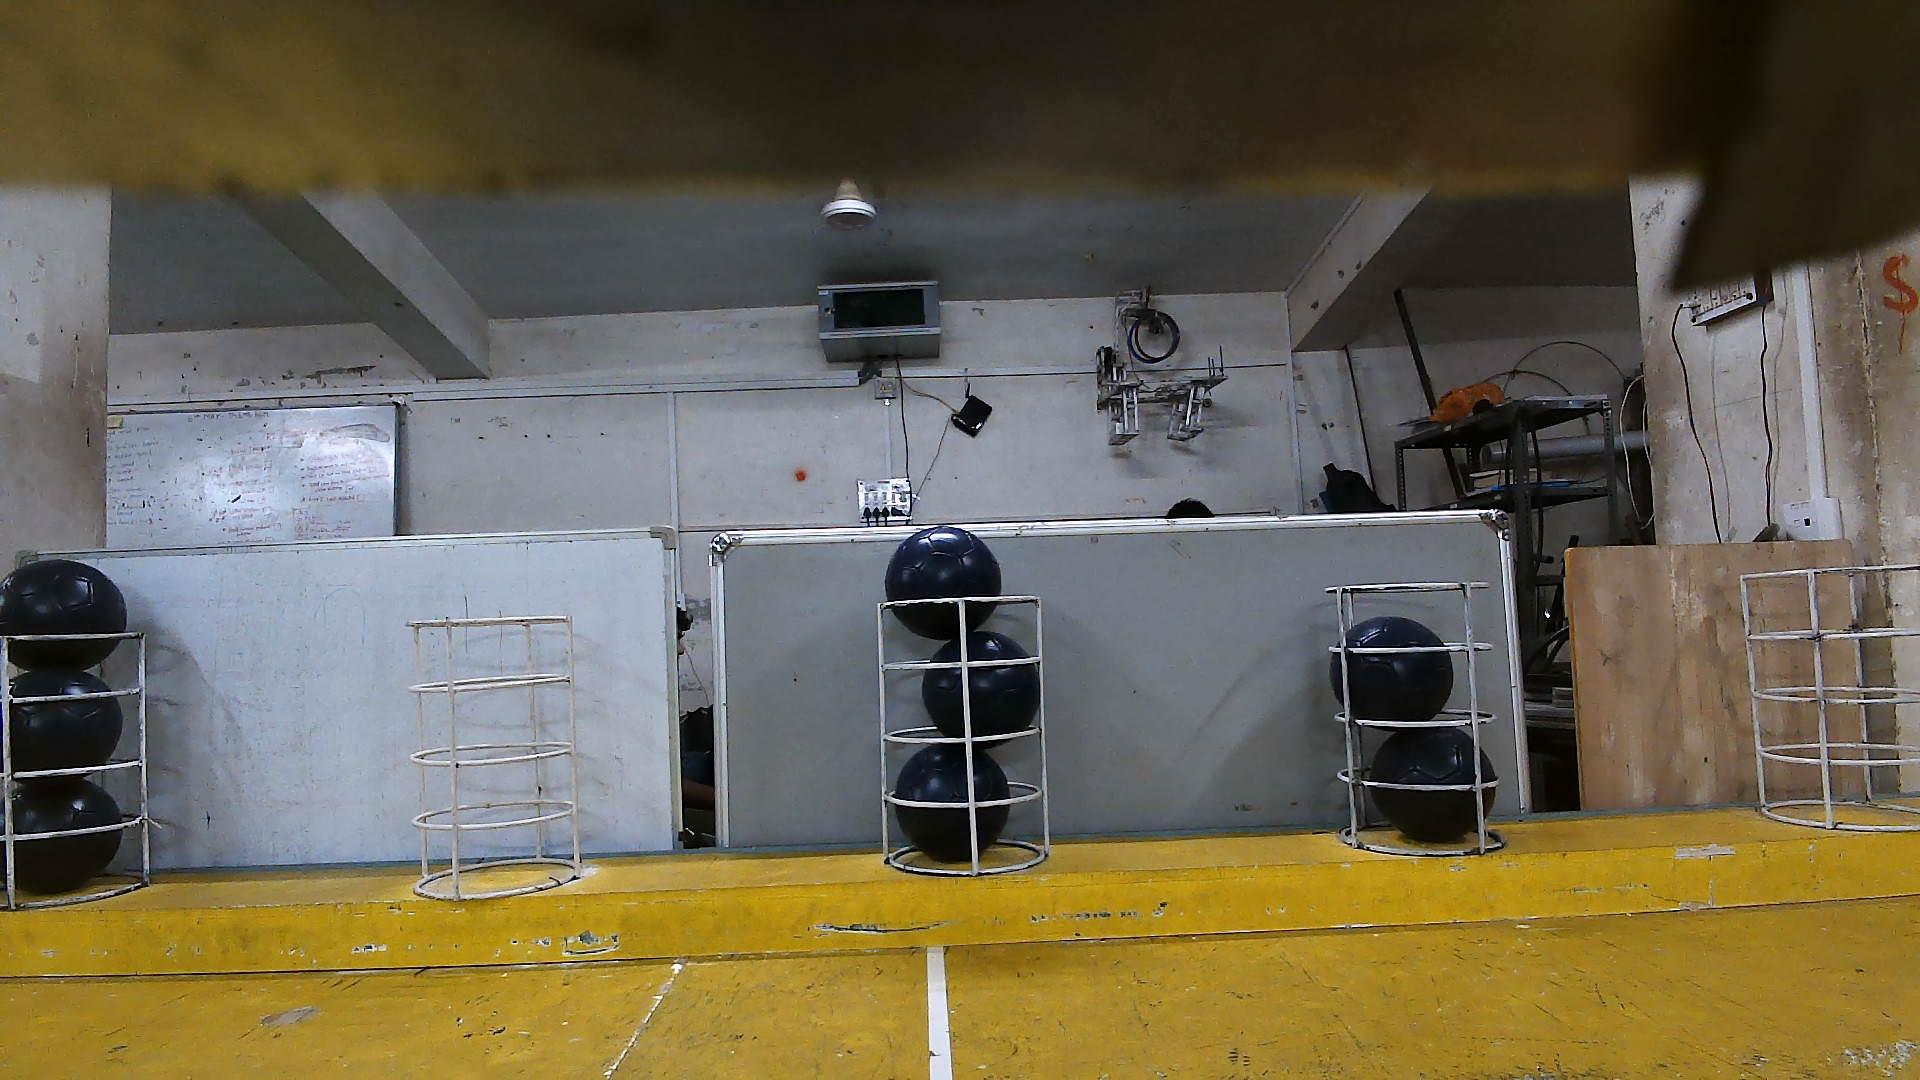dhoka: (0, 778, 124, 897), (7, 558, 125, 675), (0, 661, 121, 773), (1373, 731, 1494, 841), (1331, 617, 1453, 720), (898, 748, 1010, 860), (924, 629, 1040, 736), (887, 531, 998, 642)
